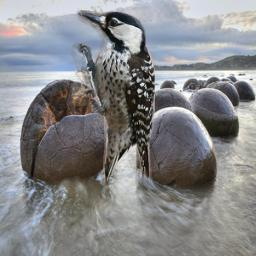Woodpecker: (70, 10, 155, 186)
